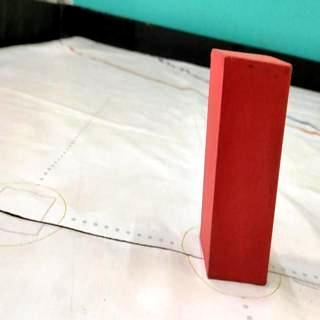redbox: (198, 50, 292, 282)
